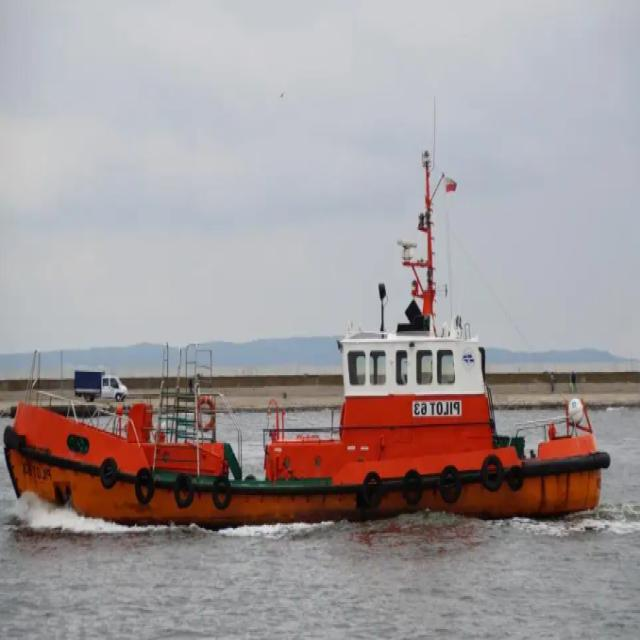fishing boat: (10, 190, 611, 523)
